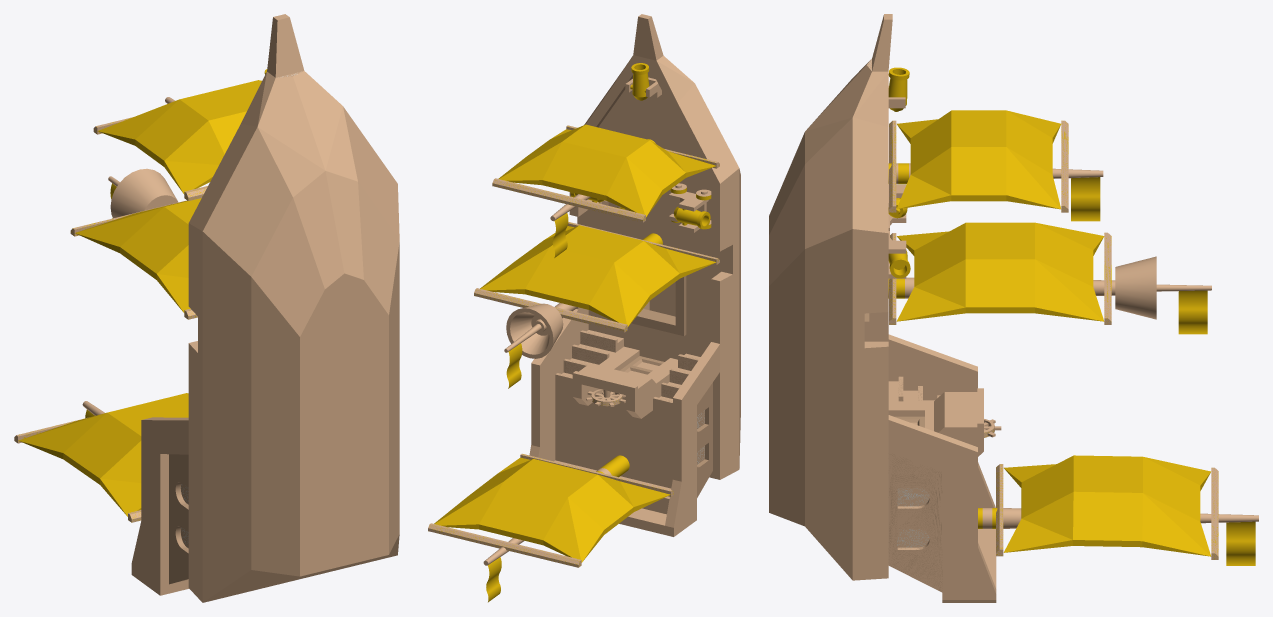
Rendered from Ship_gold.fbx.
The picture shows the model from 3 angles, left to right: view 1: azimuth 30°, elevation 25°; view 2: azimuth 150°, elevation 25°; view 3: azimuth 270°, elevation 25°; orthographic projection. The views are drawn at different scales.
Visible parts, largest first — view 1: ship_dark_8angles; view 2: ship_dark_8angles; view 3: ship_dark_8angles.
Part boxes in pixels (bbox=[...]): ship_dark_8angles: bbox=[14, 14, 399, 602]; ship_dark_8angles: bbox=[428, 14, 740, 602]; ship_dark_8angles: bbox=[769, 14, 1258, 602].
Size of the model in its own units: 57004 by 161951 by 130917.
